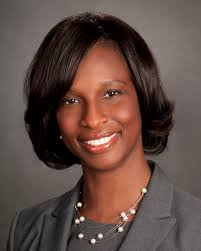black_female: (23, 14, 173, 181)
